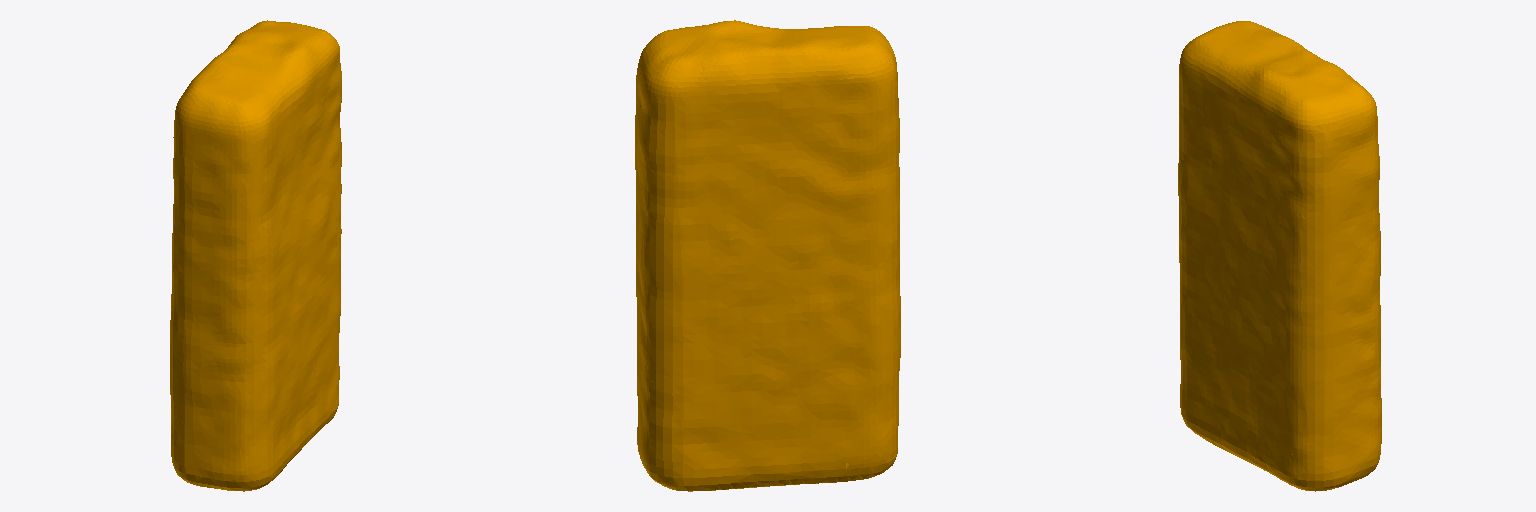
robot.urdf — sugar_box:
<?xml version="1.0"?>
<robot name="sugar_box">
  <link name="base_link">
    <inertial>
      <origin xyz="-0.008070 0.001139 0.087253" rpy="0 0 0" />
      <mass value="0.657763" />
      <inertia ixx="0.00180105" ixy="-0.00017288" ixz="-0.00000507"
               iyy="0.00189875" iyz="0.00000590" izz="0.00054346" />
    </inertial>
    <visual>
      <geometry><mesh filename="sugar_box.stl" scale="1.0 1.0 1.0" /></geometry>
    </visual>
    <collision>
      <geometry><mesh filename="sugar_box_col.obj" scale="1.0 1.0 1.0" /></geometry>
    </collision>
    <!-- PyBullet reads this URDF extension directly (setup/plane.urdf already
         does). Without it every object falls back to PyBullet's default 0.5,
         and since Bullet MULTIPLIES the two bodies' coefficients that left an
         effective mu of 0.25 against the fingers, which is why the grip
         force had to be pushed to 50N to hold anything. -->
    <contact>
      <lateral_friction value="1.0"/>
    </contact>
  </link>
</robot>

--- What the picture shows (computed from the rendered views, not written in the file) ---
3 views of the same robot in one strip: view 1: azimuth 30°, elevation 25°; view 2: azimuth 150°, elevation 25°; view 3: azimuth 270°, elevation 25° (orthographic).
Robot: sugar_box — 1 links, 0 joints (none); root link base_link; default pose: all joints at 0.
Visible links, largest first — view 1: base_link; view 2: base_link; view 3: base_link.
Link boxes in pixels (bbox=[...]): base_link: bbox=[170, 20, 341, 491]; base_link: bbox=[635, 20, 900, 491]; base_link: bbox=[1178, 21, 1381, 491].
Size in the robot's own frame: 0.0915 by 0.0813 by 0.1768 metres.
Meshes: 1 distinct files referenced, 1 mesh visuals loaded (1 binary STL).
